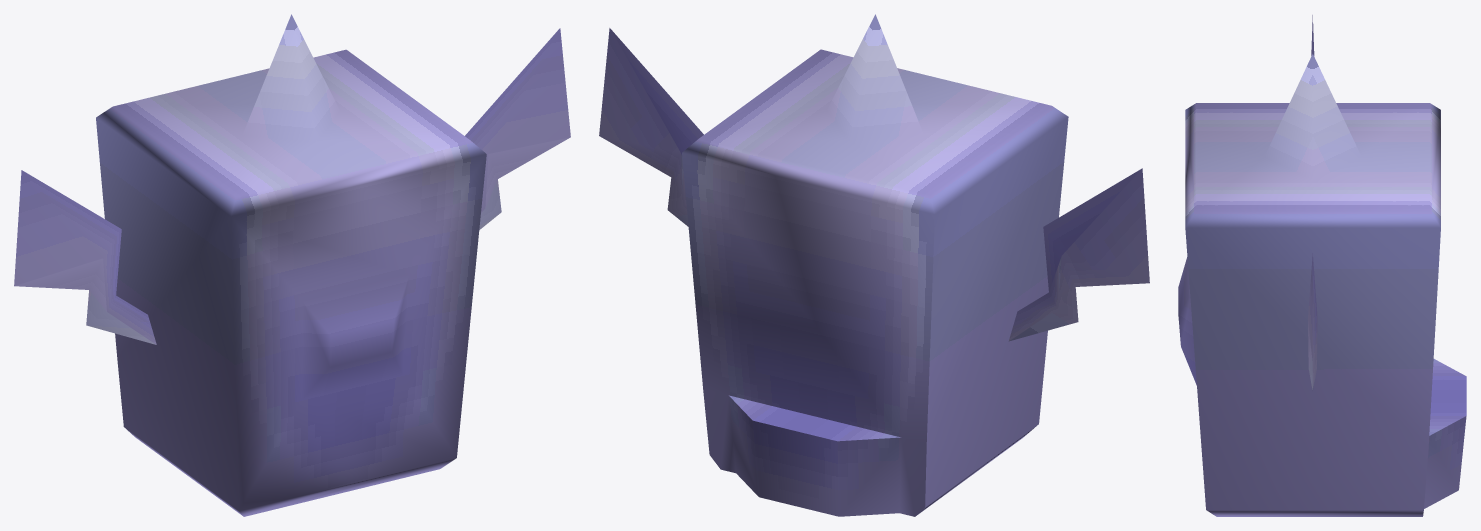
File: Rotom_Frost.obj
3 renders of one model, left to right at view 1: azimuth 30°, elevation 25°; view 2: azimuth 150°, elevation 25°; view 3: azimuth 270°, elevation 25°, orthographic. The views are drawn at different scales.
Visible parts, largest first — view 1: merged_0_0_node; view 2: merged_0_0_node; view 3: merged_0_0_node.
Part boxes in pixels (left/top/right/bottom): merged_0_0_node: left=14, top=14, right=570, bottom=516; merged_0_0_node: left=599, top=14, right=1149, bottom=516; merged_0_0_node: left=1178, top=15, right=1466, bottom=516.
Size of the model in its own units: 1.04 by 0.7922 by 0.4946.
